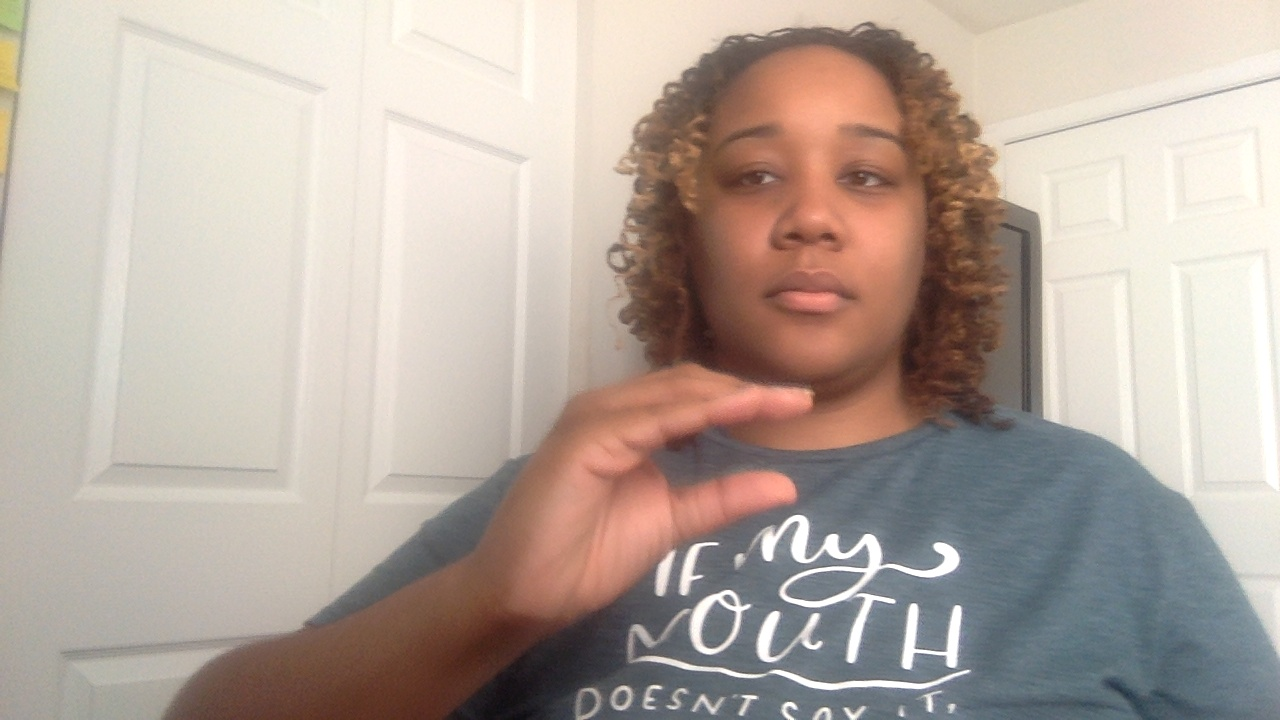no: (477, 363, 825, 637)
